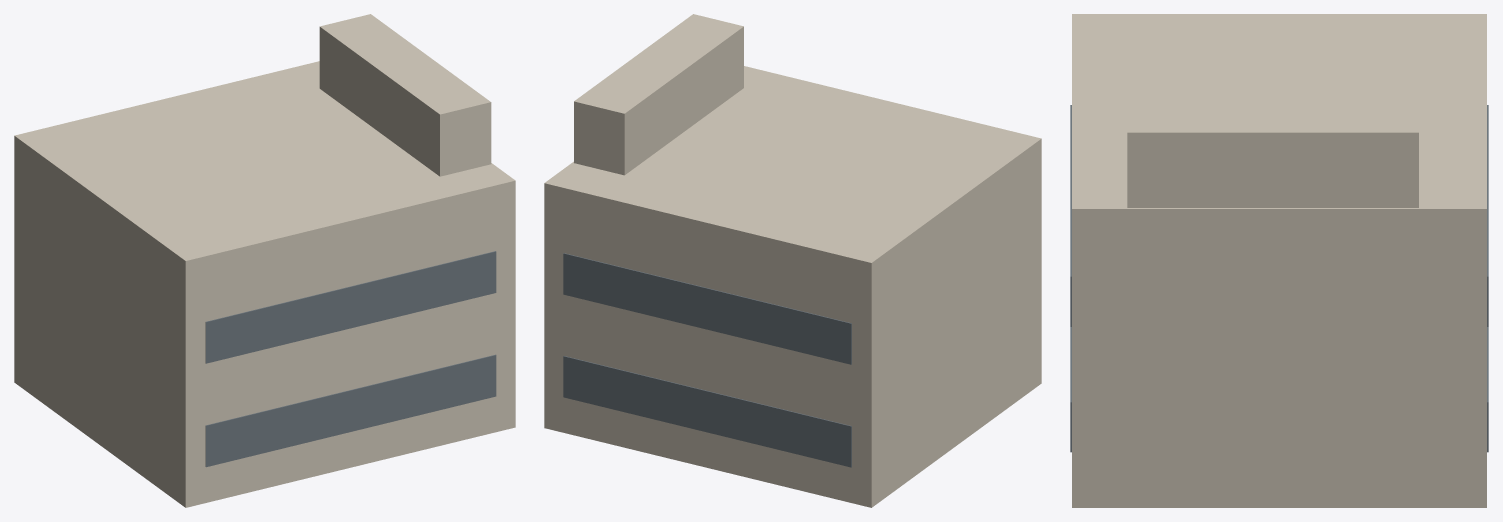
Rendered from bay-villa-cream.coast-v2.lod2.glb.
3 views of the same model, side by side, from view 1: azimuth 30°, elevation 25°; view 2: azimuth 150°, elevation 25°; view 3: azimuth 270°, elevation 25° (orthographic). The views are drawn at different scales.
Parts seen in each view (by area): view 1: bay-villa-cream; view 2: bay-villa-cream; view 3: bay-villa-cream.
Boxes of the visible parts, box(x1,y1,x2,y2) form: bay-villa-cream: box(14, 14, 515, 507); bay-villa-cream: box(544, 14, 1041, 507); bay-villa-cream: box(1070, 14, 1488, 507).
Bounding box in the file's own units: 10 × 8.95 × 9.06.
